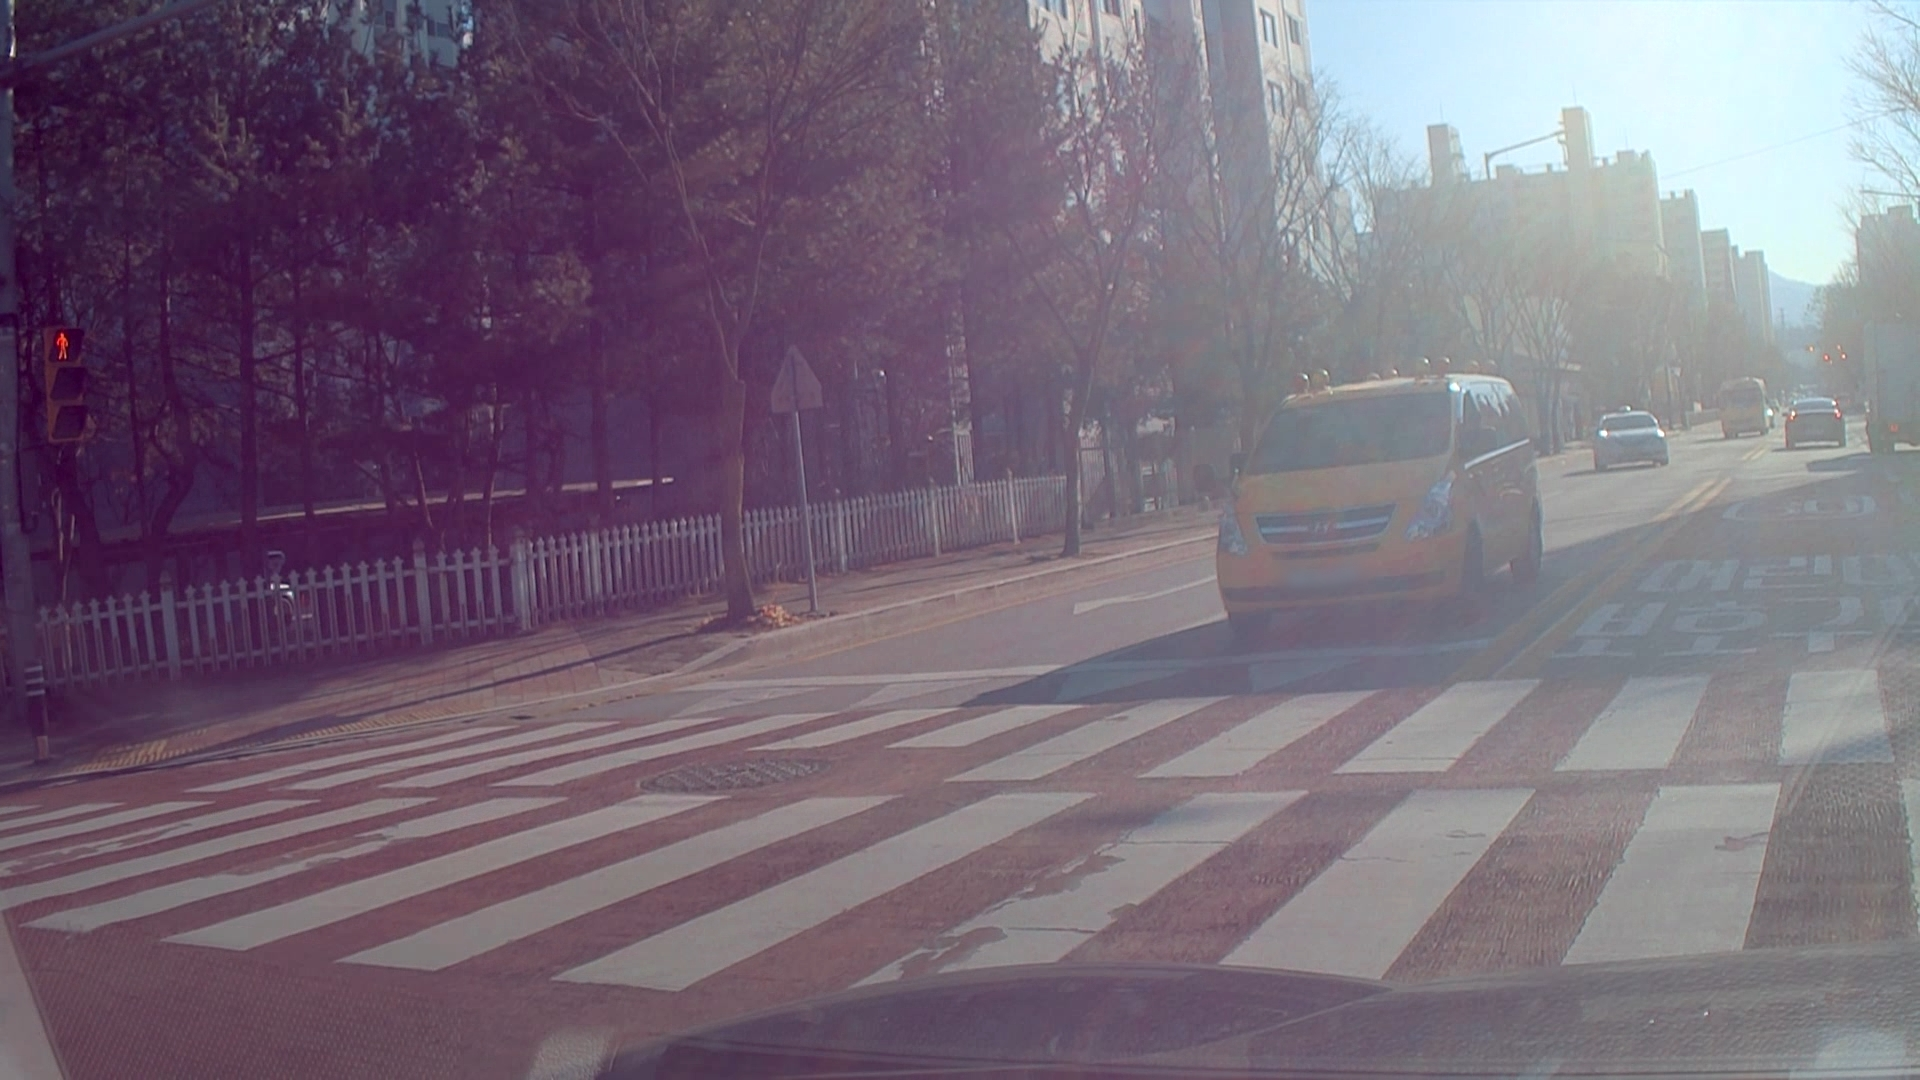trafficLightBar: (36, 318, 96, 454)
